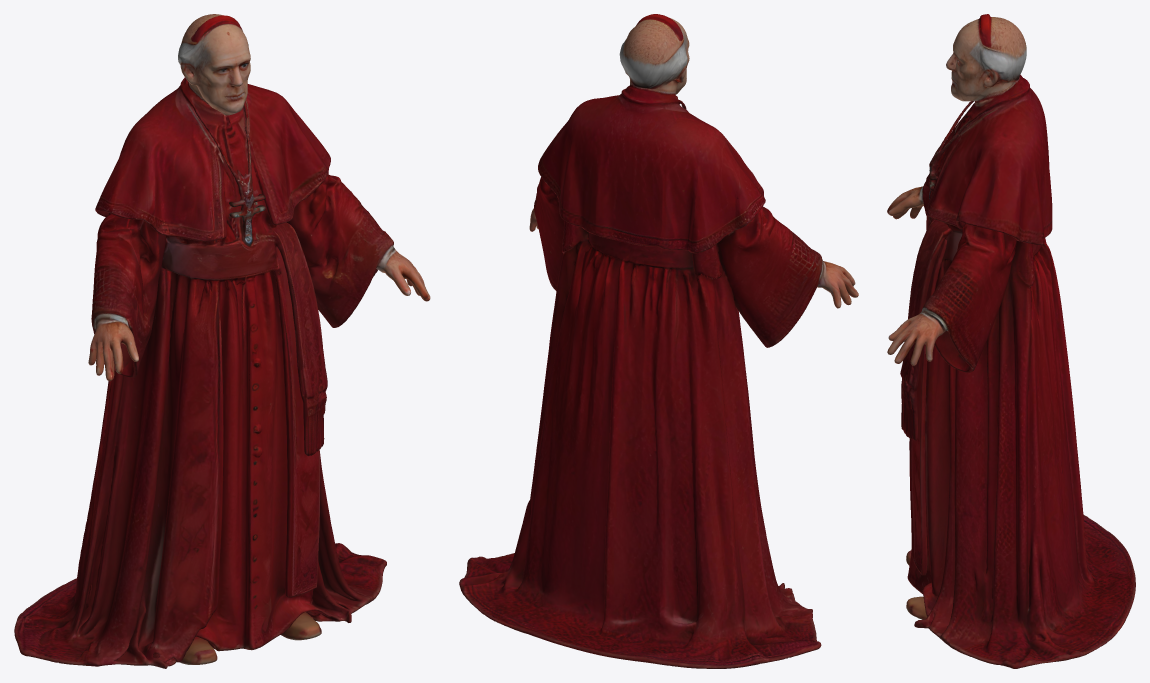
The model's file is cardinal+robe+3d+model.obj.
The picture shows the model from 3 angles, left to right: view 1: azimuth 30°, elevation 25°; view 2: azimuth 150°, elevation 25°; view 3: azimuth 270°, elevation 25°; orthographic projection. The views are drawn at different scales.
Parts seen in each view (by area): view 1: tripo_node_76f78103-529f-48fd-bb50-4249daa7dc1e; view 2: tripo_node_76f78103-529f-48fd-bb50-4249daa7dc1e; view 3: tripo_node_76f78103-529f-48fd-bb50-4249daa7dc1e.
Boxes of the visible parts, box(x1,y1,x2,y2) form: tripo_node_76f78103-529f-48fd-bb50-4249daa7dc1e: box(14, 14, 430, 668); tripo_node_76f78103-529f-48fd-bb50-4249daa7dc1e: box(459, 14, 858, 668); tripo_node_76f78103-529f-48fd-bb50-4249daa7dc1e: box(887, 14, 1135, 668).
Bounding box in the file's own units: 0.6267 × 1 × 0.392.
1 material, 1 textured.
